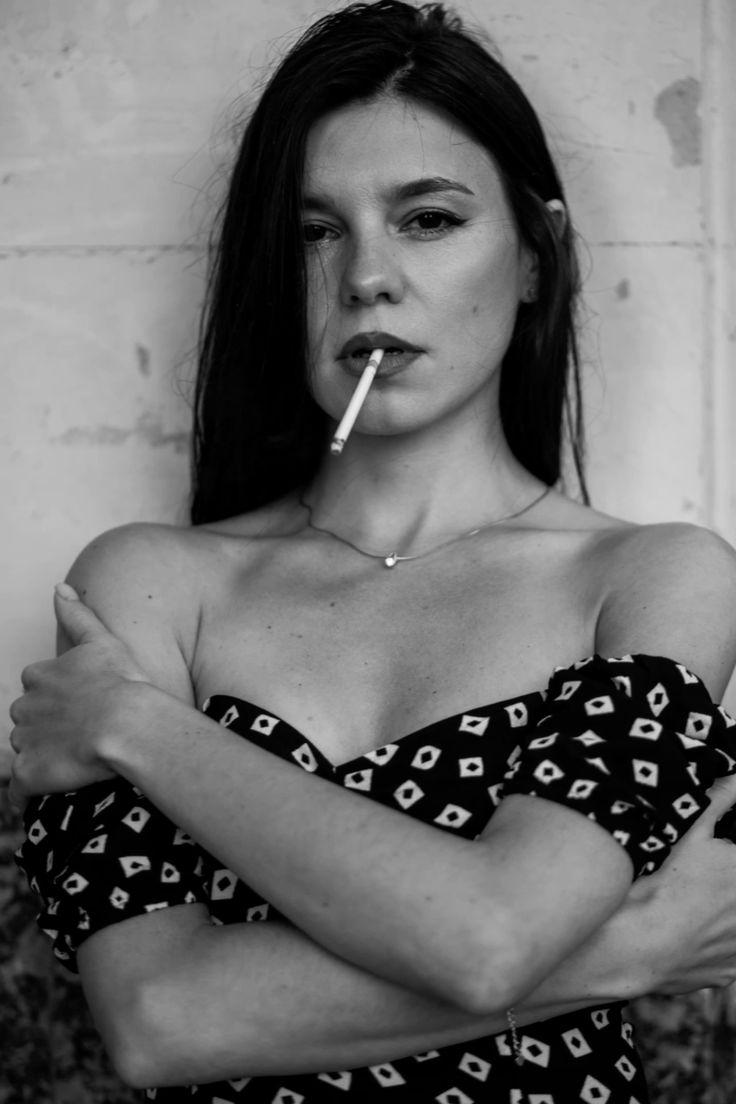cigarette: (331, 348, 385, 456)
